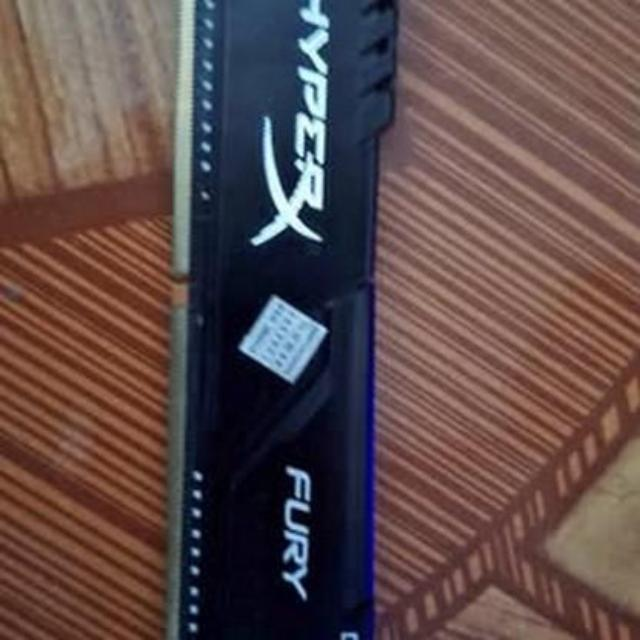RAM: (166, 0, 388, 640)
